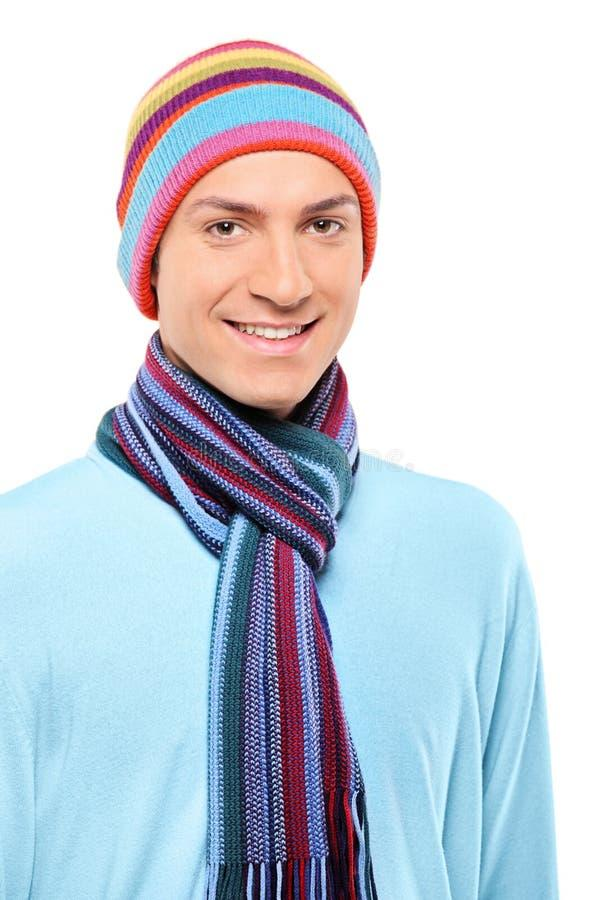cap: (113, 35, 398, 323)
